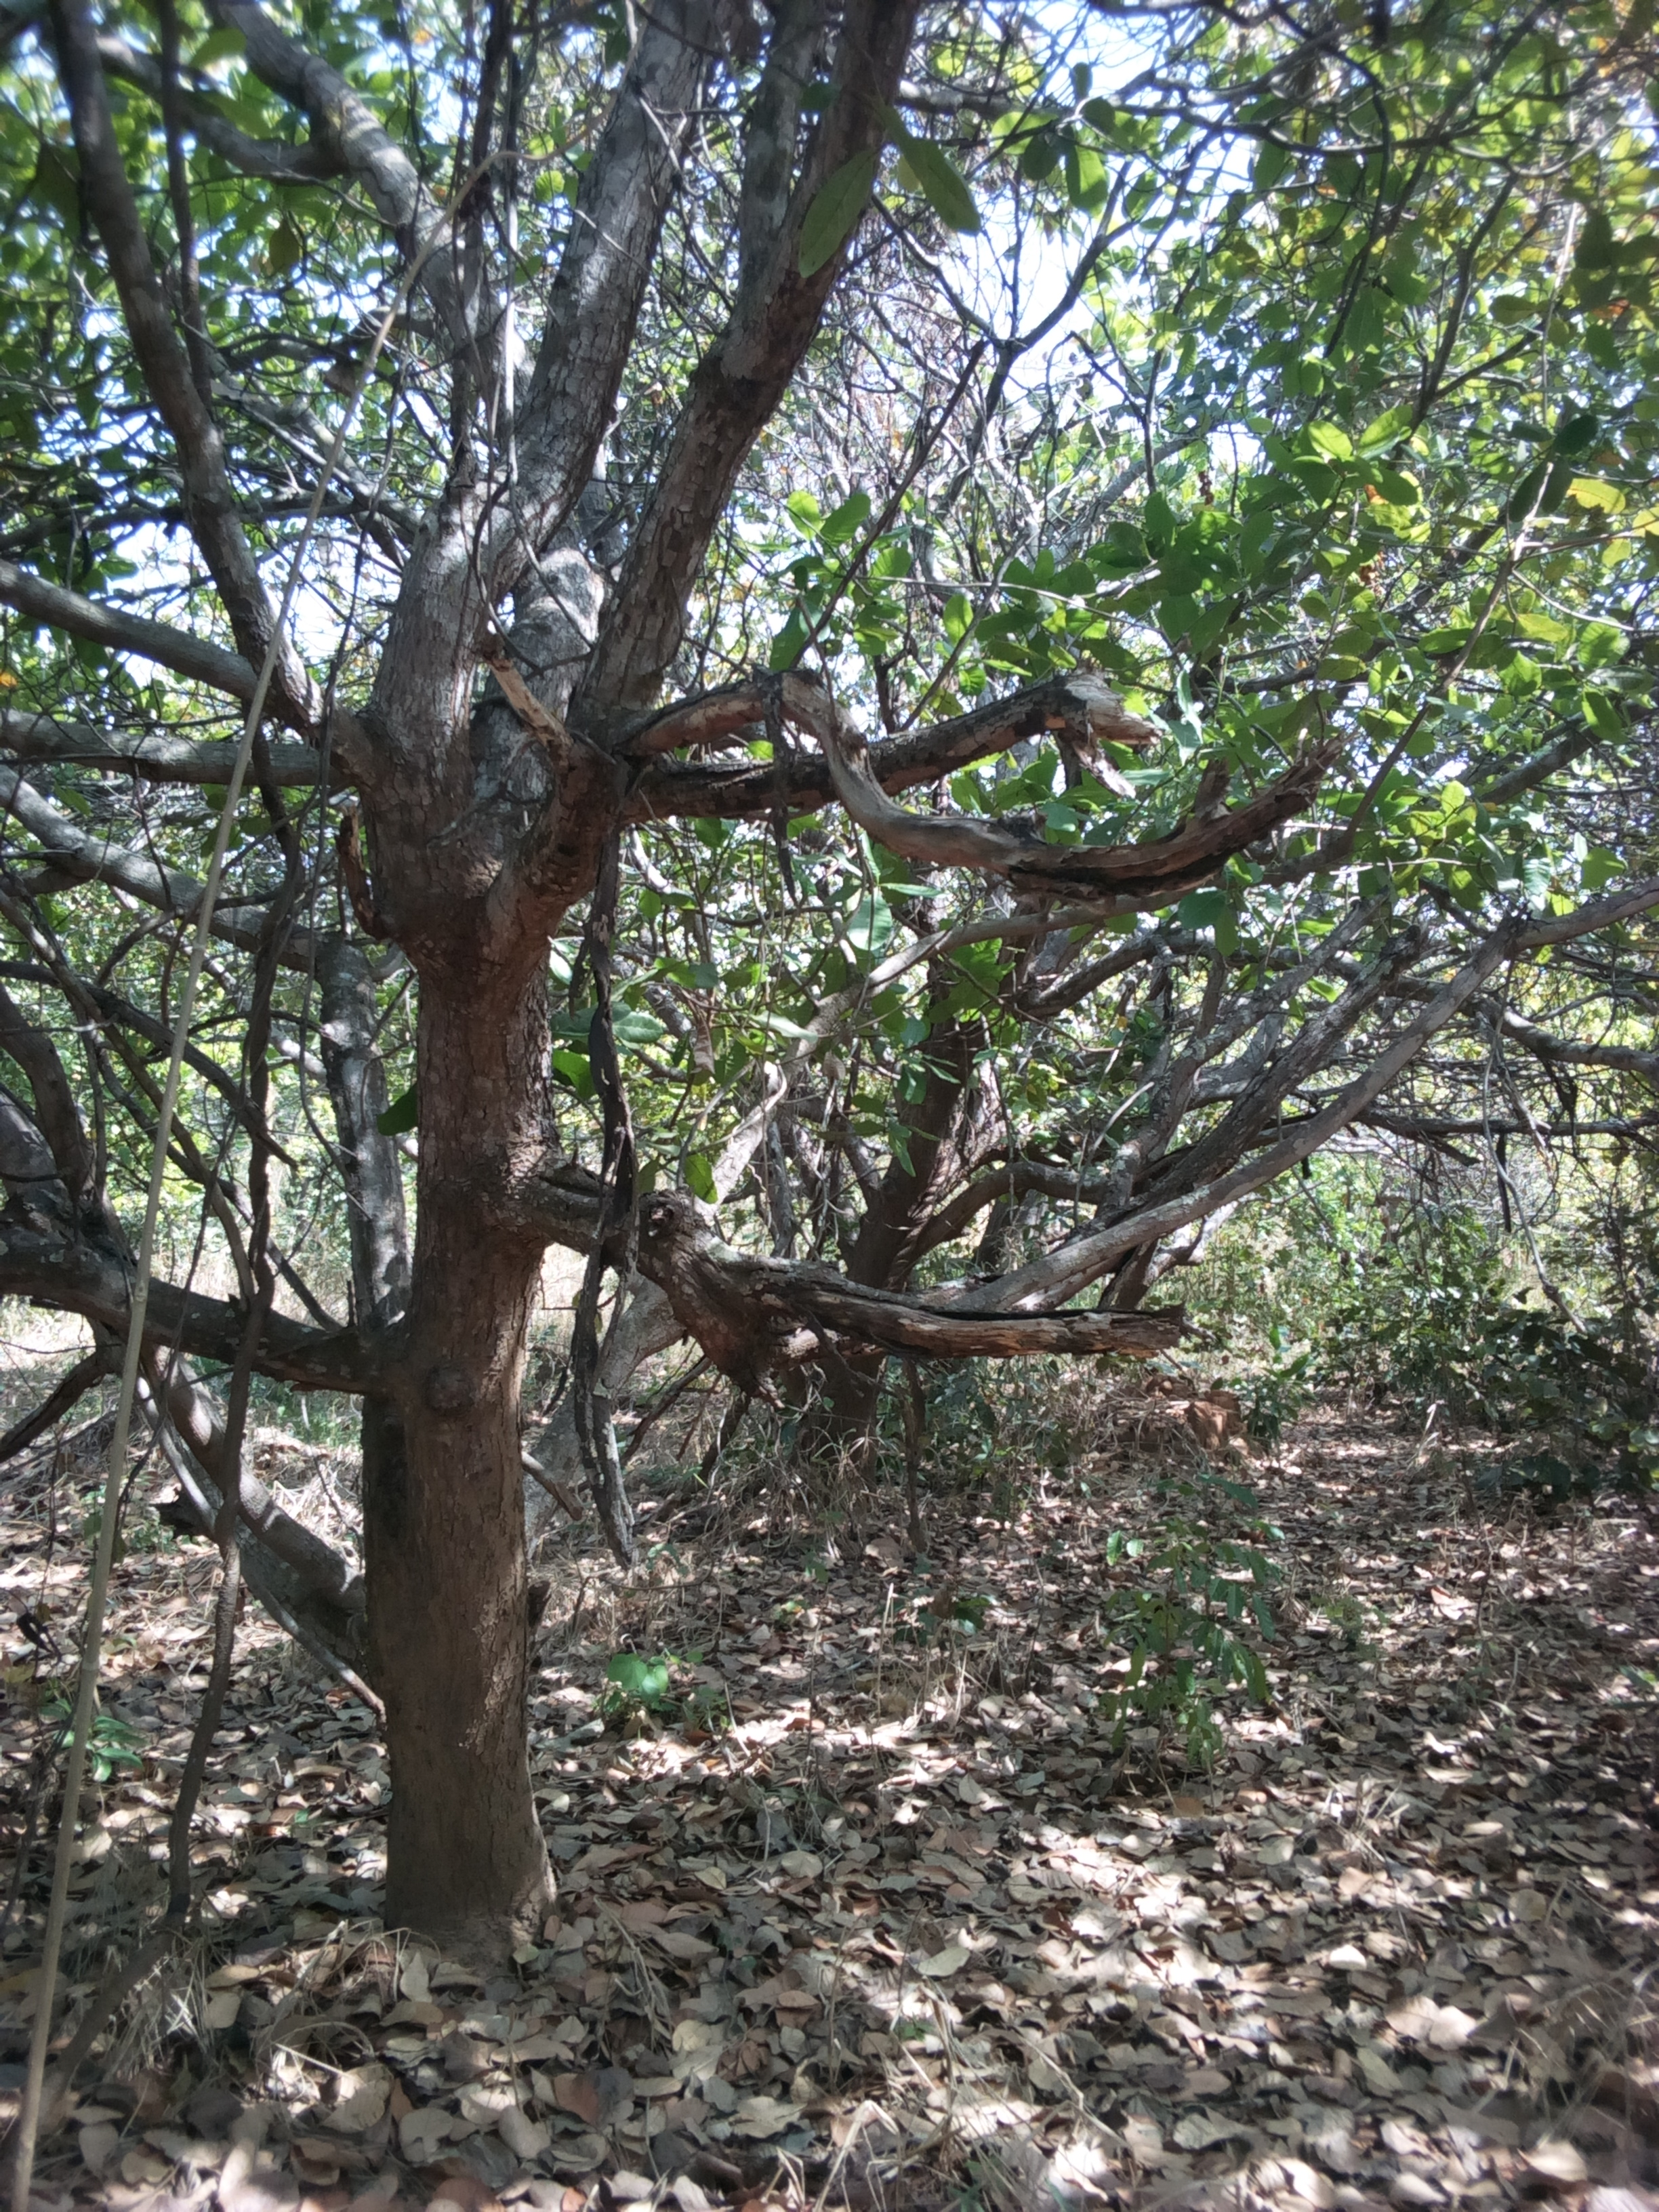Termites: (413, 1285, 538, 1872), (436, 869, 582, 1163)
